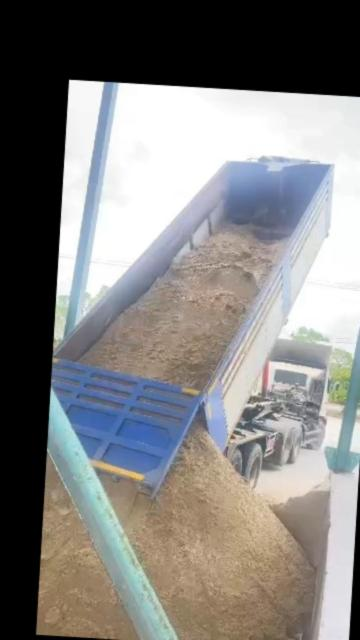sand: (103, 425, 313, 640), (81, 227, 286, 389), (37, 454, 136, 640), (273, 479, 329, 567)
